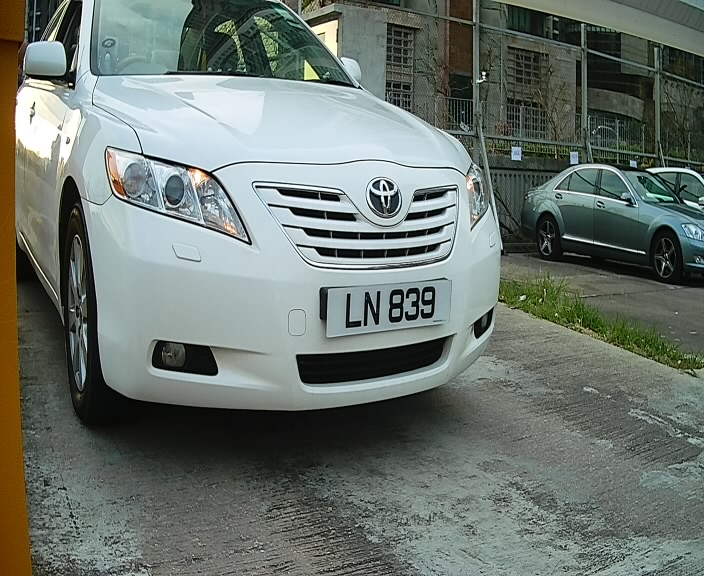Car: (2, 2, 543, 456)
License Plate: (312, 273, 461, 344)
